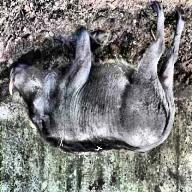boar: (2, 0, 191, 169)
